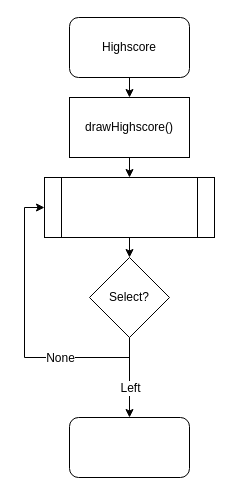
This 232x495 diagram has some shape labels left out. Each missing label, with the centre of its shape:
chooseHighscore(): the point at 129,207
Menu: the point at 129,447
